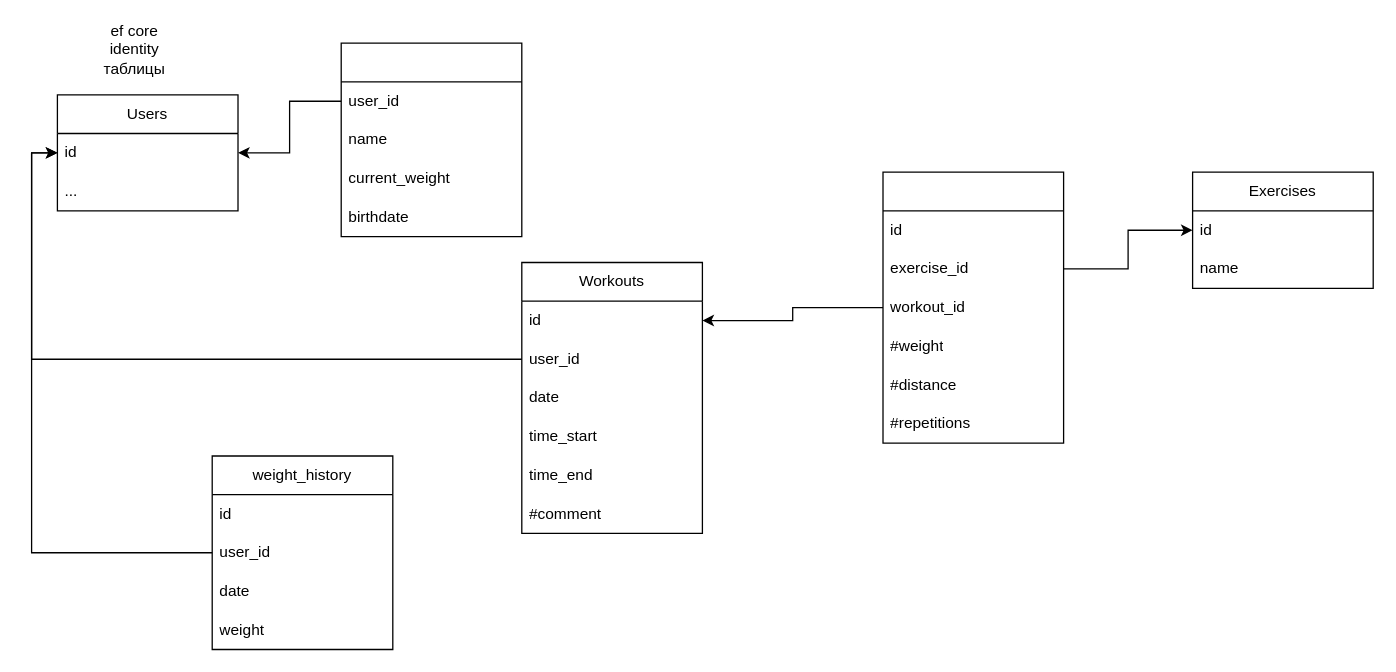
Some shapes in this 1396 by 672 pixel diagram are drawn without their labels. Here are the shapes that lost their labels. From the top down, the box of each, then its label:
(340, 42, 522, 237): UserProfiles
(882, 171, 1064, 443): Exercise_entries
